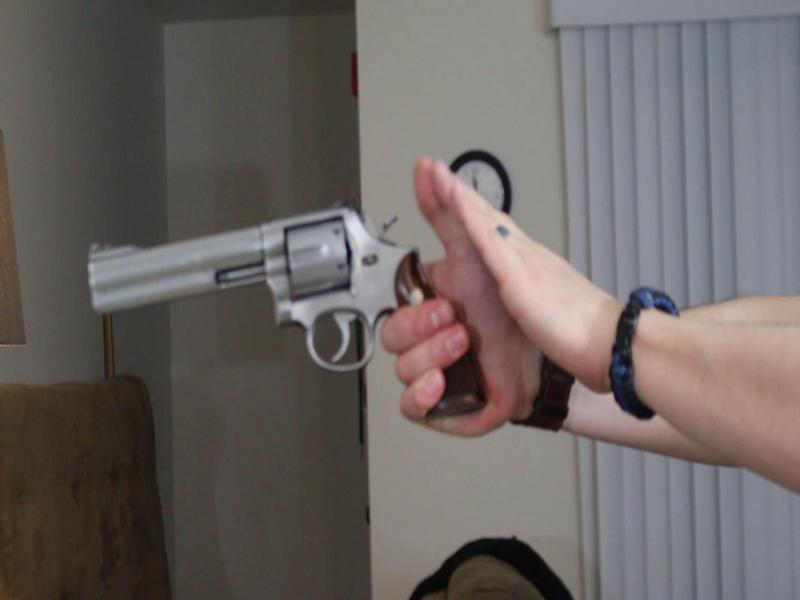Revolver: (75, 207, 482, 415)
